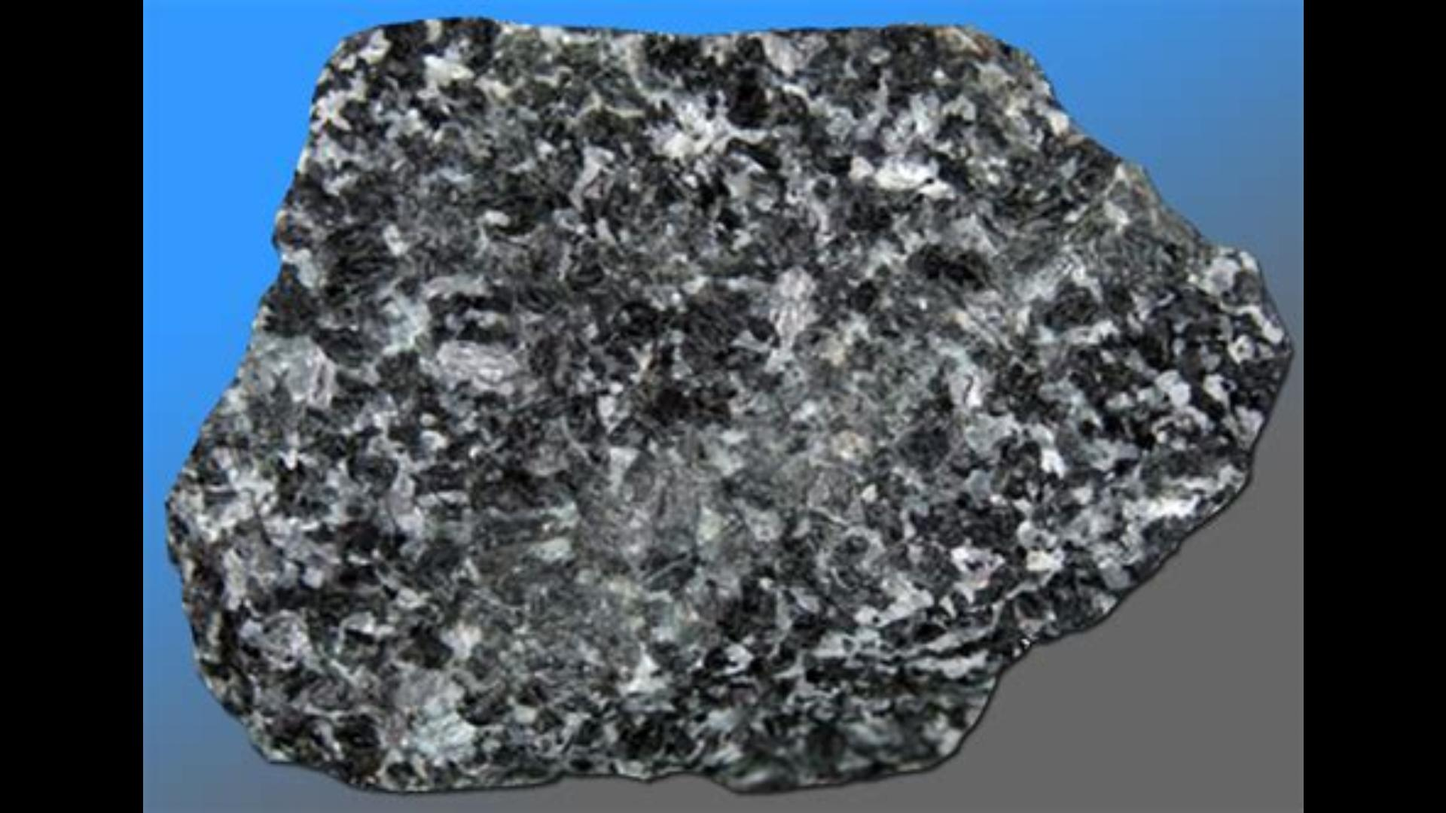rock: (169, 27, 1289, 789)
